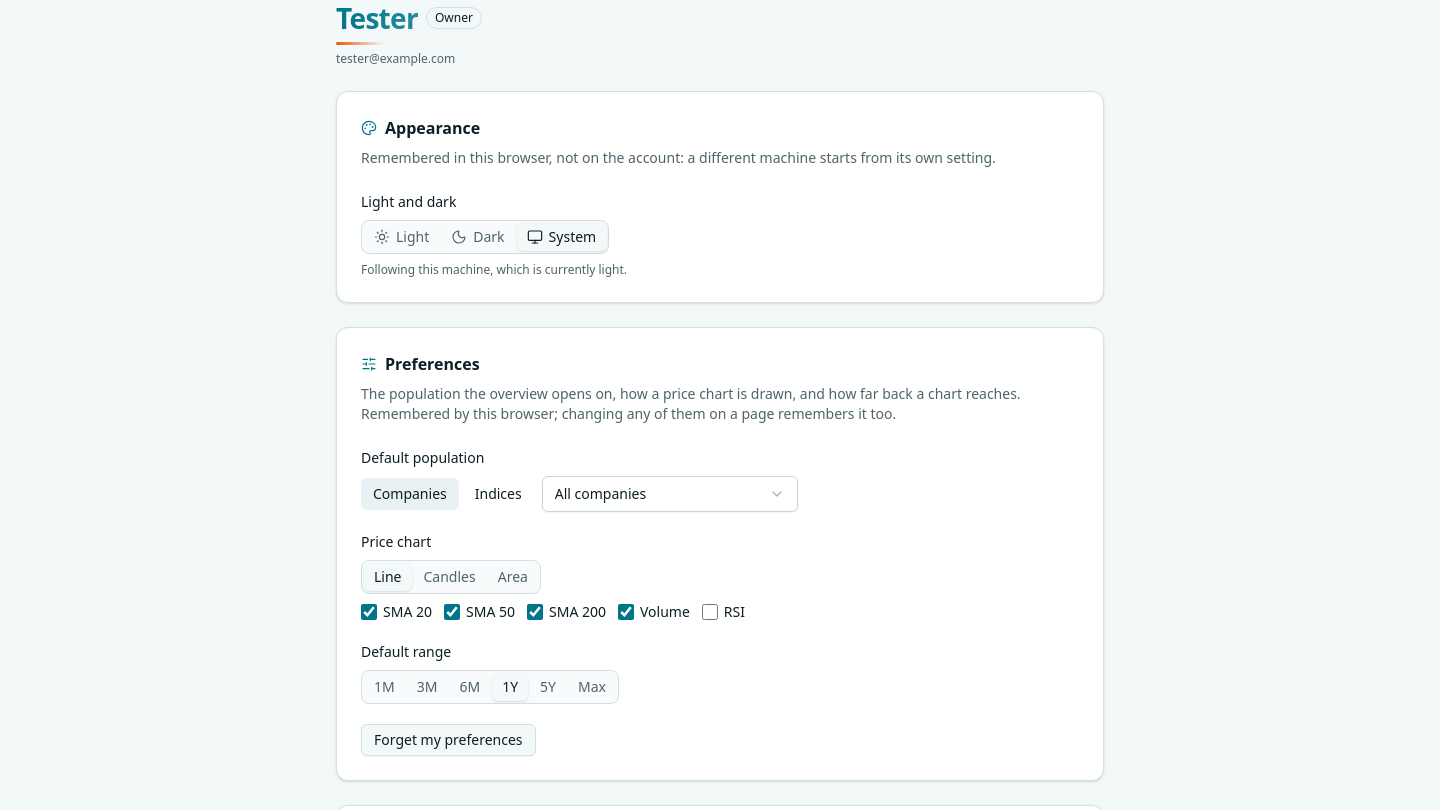
it: Profile › says what following the system currently means
The width and height of the screenshot is (1440, 810).
Expected: the text "Following this machine, which is currently light." is shown, left=361, top=261, right=627, bottom=278
Click the button "Dark".
click(478, 237)  # box left=441, top=223, right=515, bottom=251
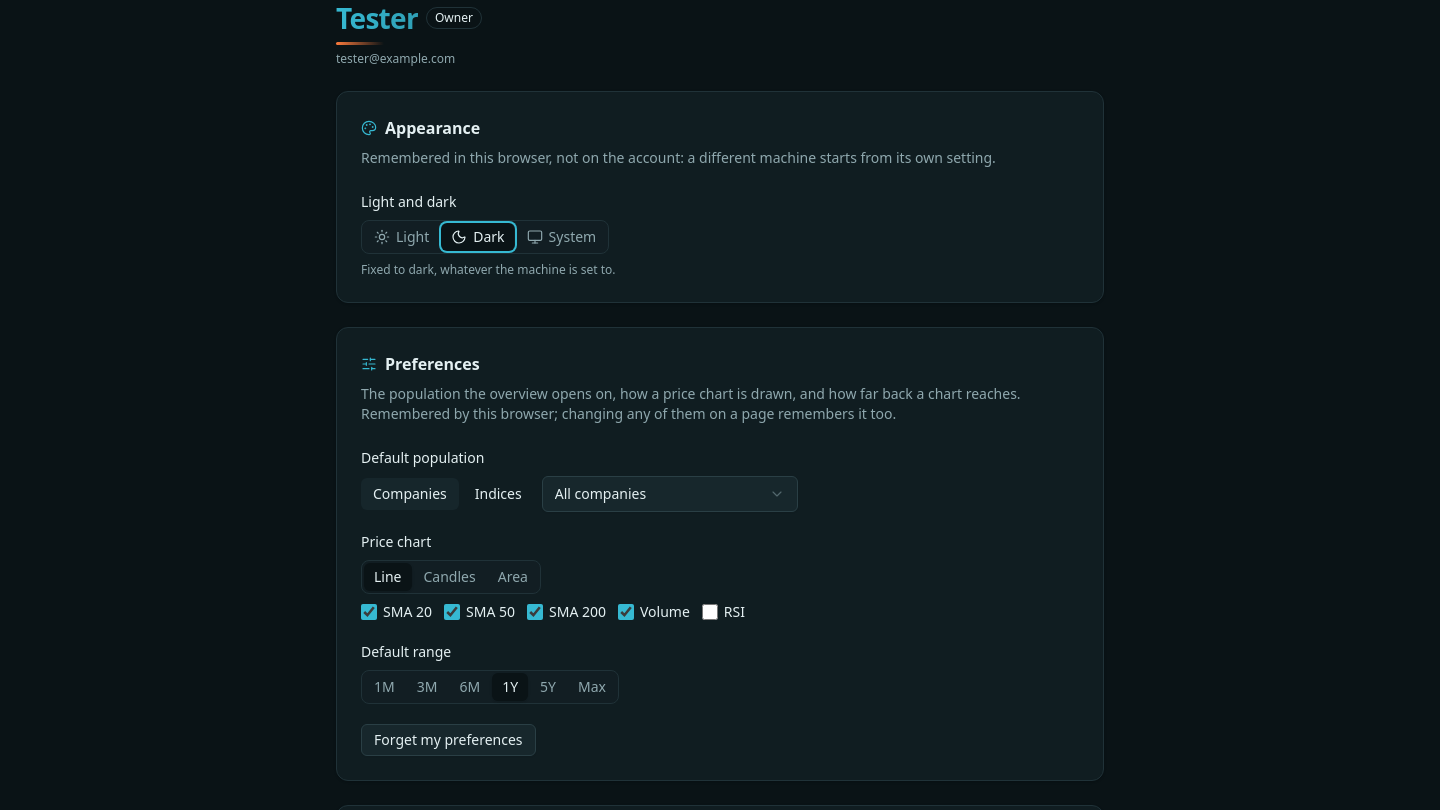
Result: the text "Fixed to dark, whatever the machine is set to." is shown at left=361, top=261, right=616, bottom=278
